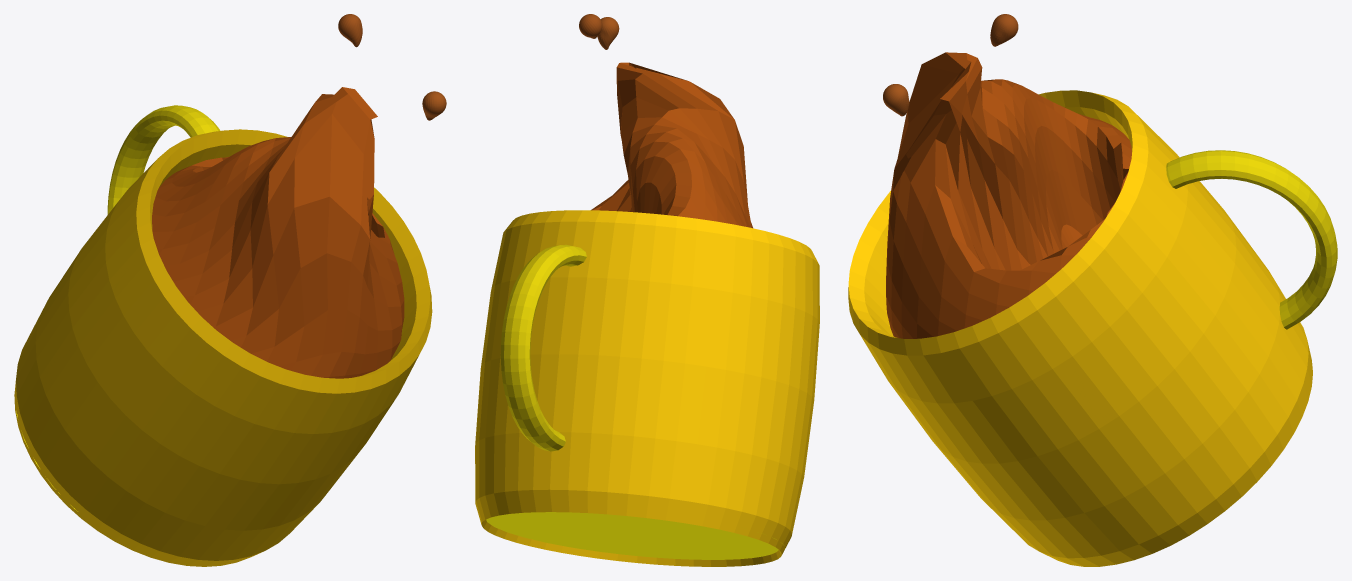
Rendered from coffee_cup.glb.
The picture shows the model from 3 angles, left to right: view 1: azimuth 30°, elevation 25°; view 2: azimuth 150°, elevation 25°; view 3: azimuth 270°, elevation 25°; orthographic projection. The views are drawn at different scales.
Visible parts, largest first — view 1: Sphere.002; view 2: Sphere.002; view 3: Sphere.002.
Part boxes in pixels (x1,y1,x2,y2): Sphere.002: (14,14,446,566); Sphere.002: (475,14,819,566); Sphere.002: (848,14,1337,566).
Bounding box in the file's own units: 0.1087 × 0.1706 × 0.1314.
